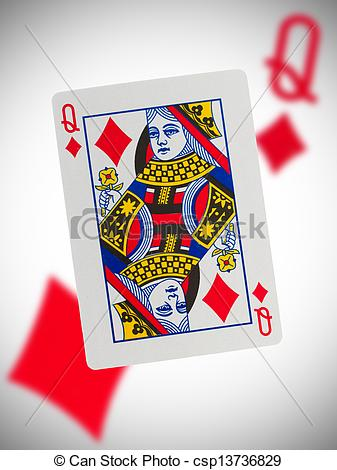queen of diamonds: (50, 68, 282, 374)
